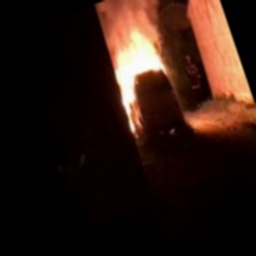fire: (83, 0, 197, 128)
